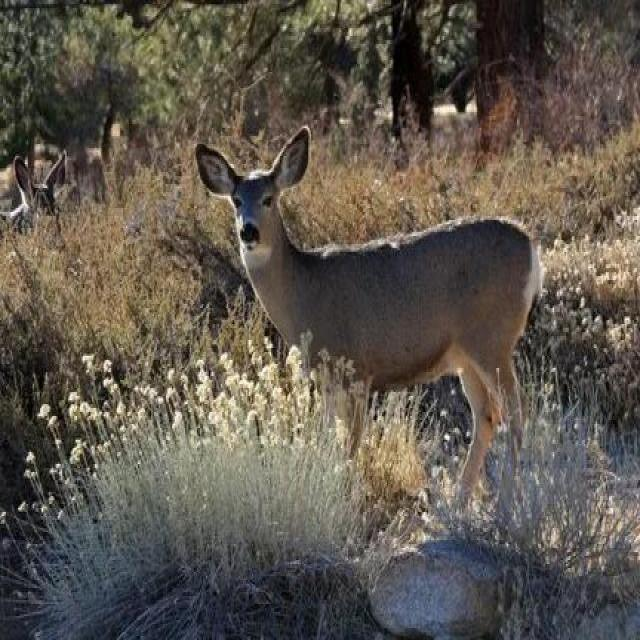deer: (215, 164, 548, 472)
